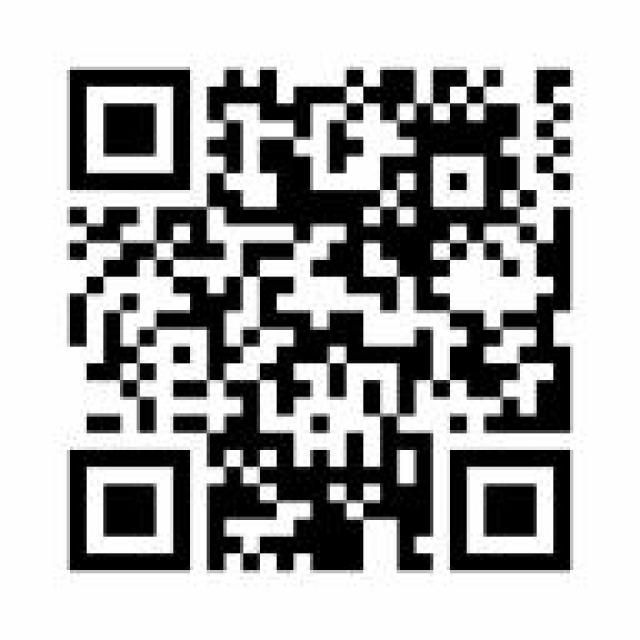QR_CODE: (54, 53, 584, 587)
